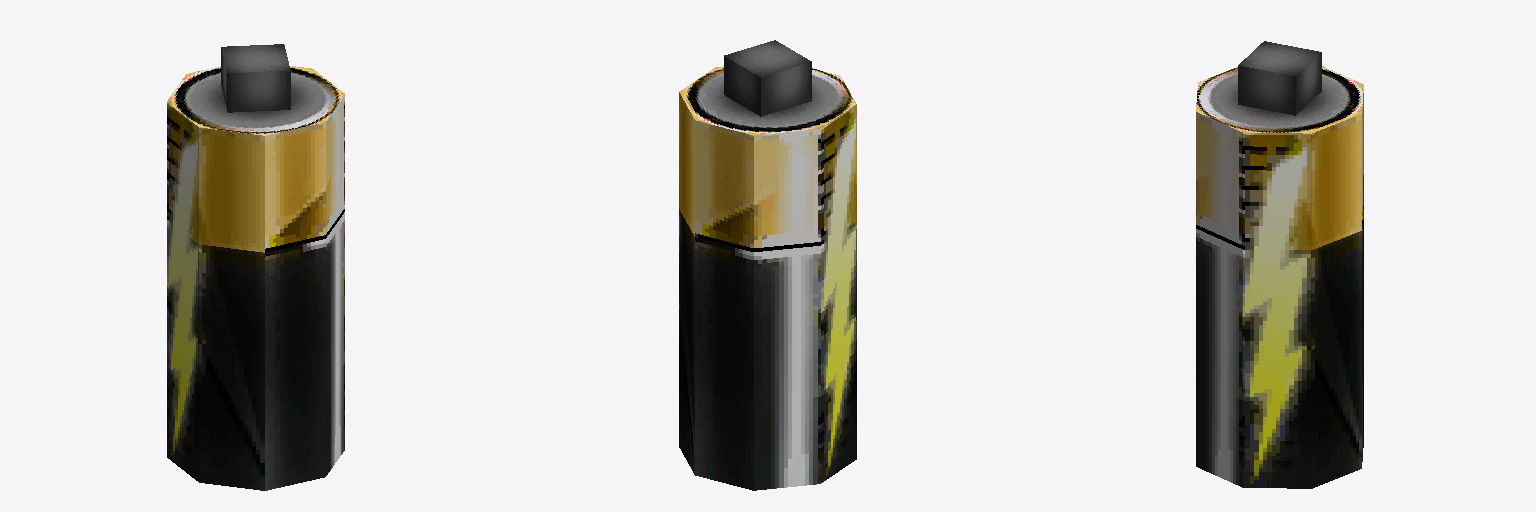
The picture shows the model from 3 angles: view 1: azimuth 30°, elevation 25°; view 2: azimuth 150°, elevation 25°; view 3: azimuth 270°, elevation 25°; orthographic projection.
Parts seen in each view (by area): view 1: battery.gr2; view 2: battery.gr2; view 3: battery.gr2.
Boxes of the visible parts, box(x1,y1,x2,y2) form: battery.gr2: box(167, 44, 344, 490); battery.gr2: box(679, 40, 856, 490); battery.gr2: box(1196, 41, 1363, 488).
Size of the model in its own units: 0.1863 by 0.4822 by 0.1863.
Materials: 1 (1 with a texture image).